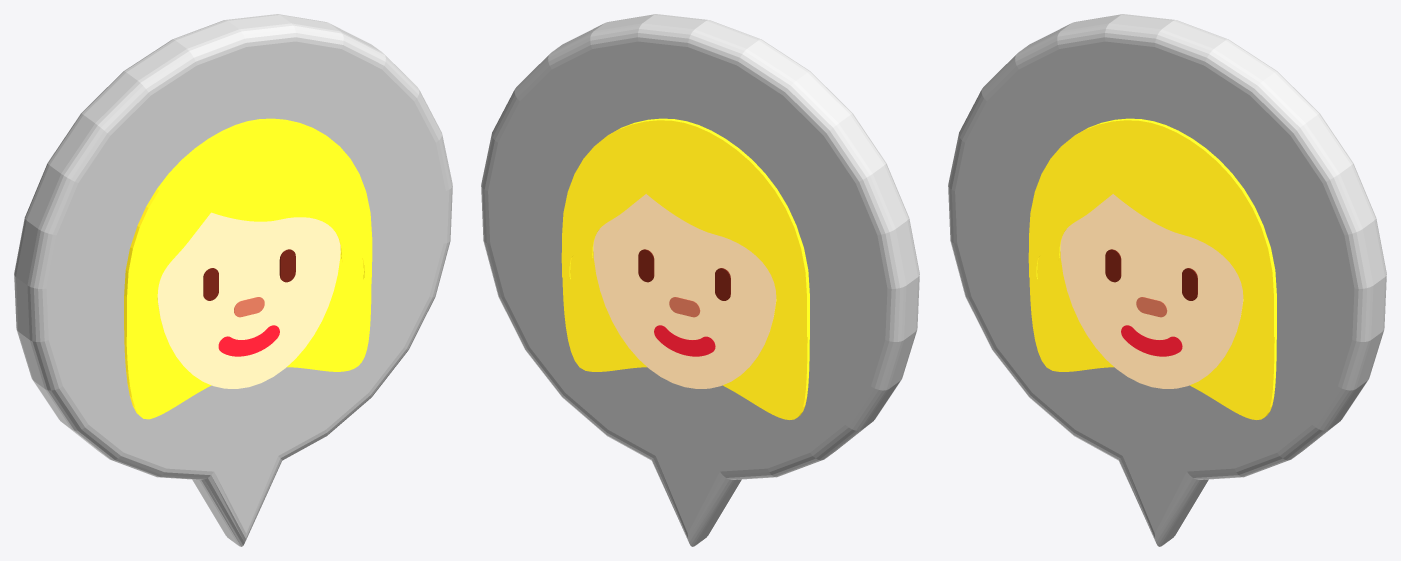
Rendered from mediumlight_skin_tone_blond_hair.glb.
3 renders of one model, left to right at view 1: azimuth 30°, elevation 25°; view 2: azimuth 150°, elevation 25°; view 3: azimuth 330°, elevation 25°, orthographic.
Parts seen in each view (by area): view 1: EmotionBubble; view 2: EmotionBubble; view 3: EmotionBubble.
Part boxes in pixels (left/top/right/bottom): EmotionBubble: left=14, top=14, right=452, bottom=546; EmotionBubble: left=481, top=14, right=919, bottom=546; EmotionBubble: left=948, top=14, right=1386, bottom=546.
Size of the model in its own units: 5.29 by 6.16 by 0.706.
